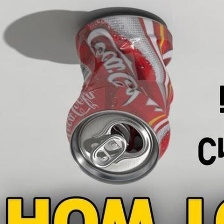can: (61, 5, 184, 187)
